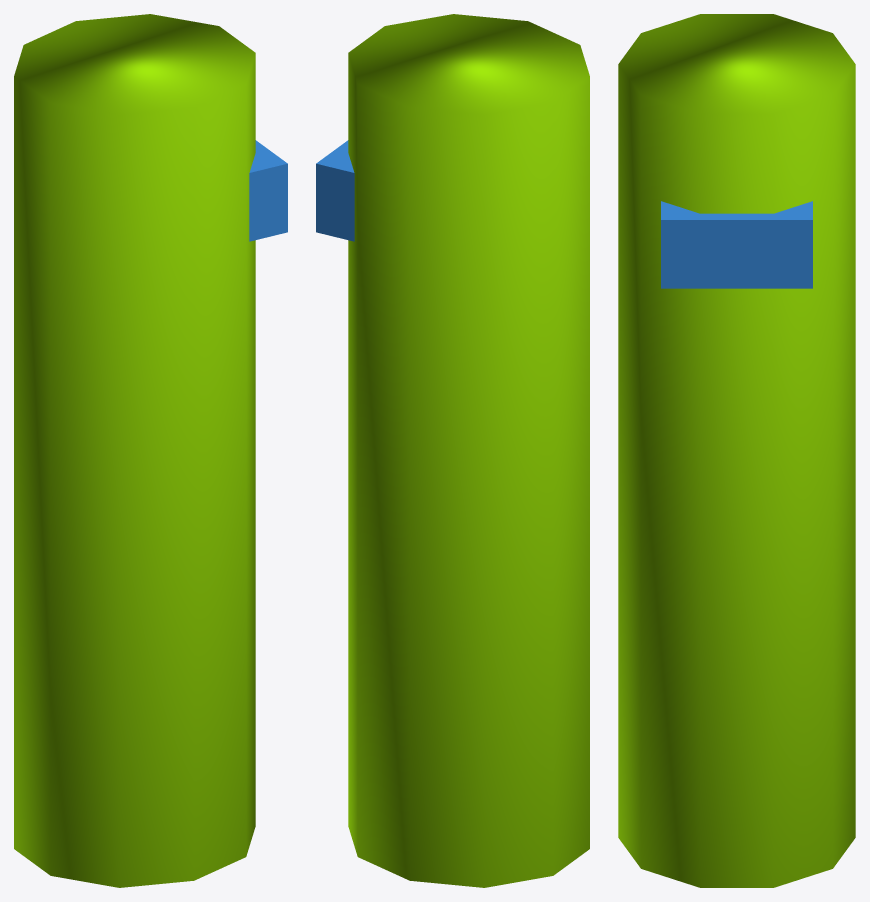
Rendered from player.glb.
3 renders of one model, left to right at view 1: azimuth 30°, elevation 25°; view 2: azimuth 150°, elevation 25°; view 3: azimuth 270°, elevation 25°, orthographic.
Parts seen in each view (by area): view 1: Cylinder, Cube; view 2: Cylinder, Cube; view 3: Cylinder, Cube.
Boxes of the visible parts, x1,y1,x2,y2 form: Cylinder: [14, 14, 255, 887]; Cube: [249, 140, 287, 241]; Cylinder: [348, 14, 589, 887]; Cube: [316, 140, 354, 241]; Cylinder: [618, 14, 855, 887]; Cube: [661, 201, 812, 288].
Size of the model in its own units: 0.5305 by 1.8 by 0.5.
